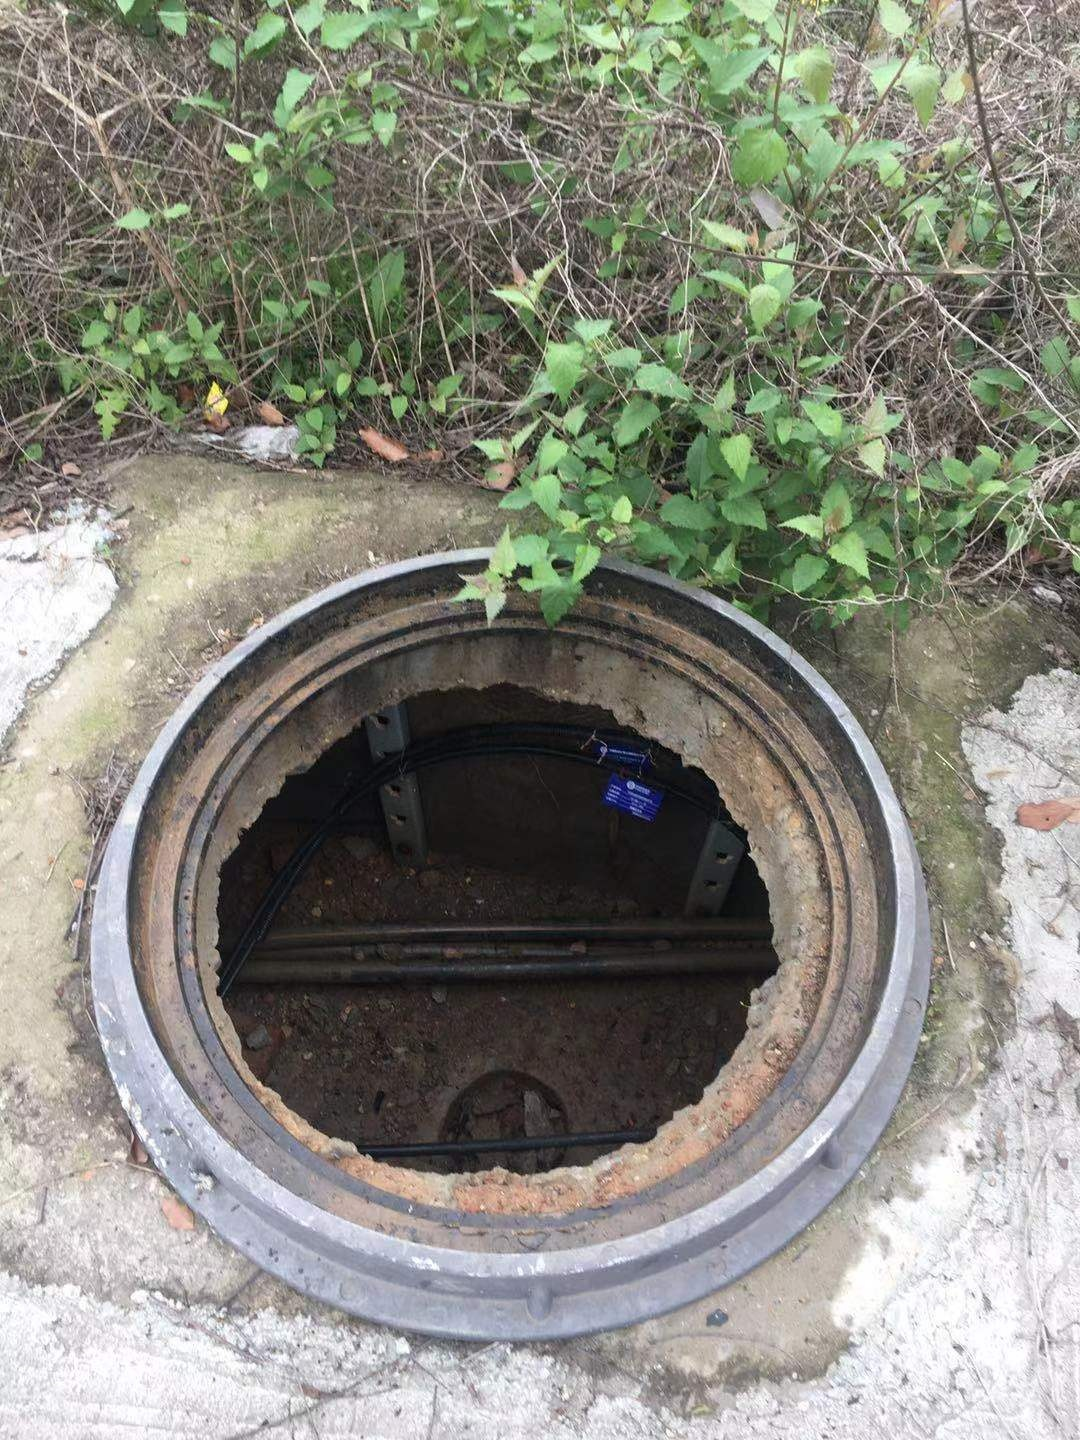well: (88, 549, 939, 1336)
